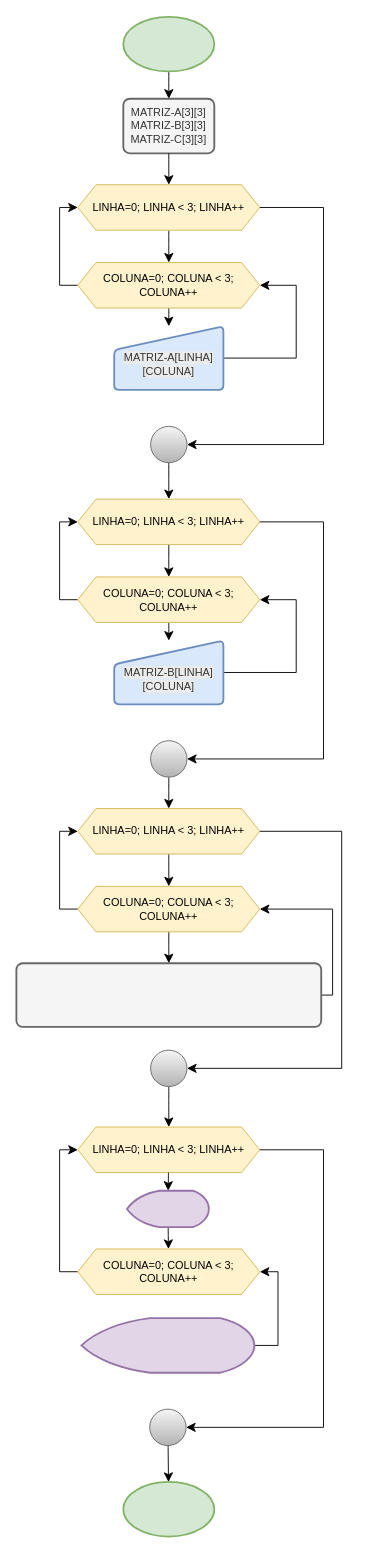
The diagram is 367 pixels wide and 1552 high, and some of its shapes have lost their labels. Each missing label, with the centre of its shape:
"FIM" belongs at point (168, 1509).
"INICIO" belongs at point (168, 43).
"MATRIZ-C[LINHA][COLUNA]" belongs at point (167, 1345).
"MATRIZ-C[LINHA][COLUNA] = MATRIZ-A[LINHA][COLUNA] + MATRIZ-B[LINHA][COLUNA]" belongs at point (168, 994).
"MOSTRA LINHA" belongs at point (167, 1208).
